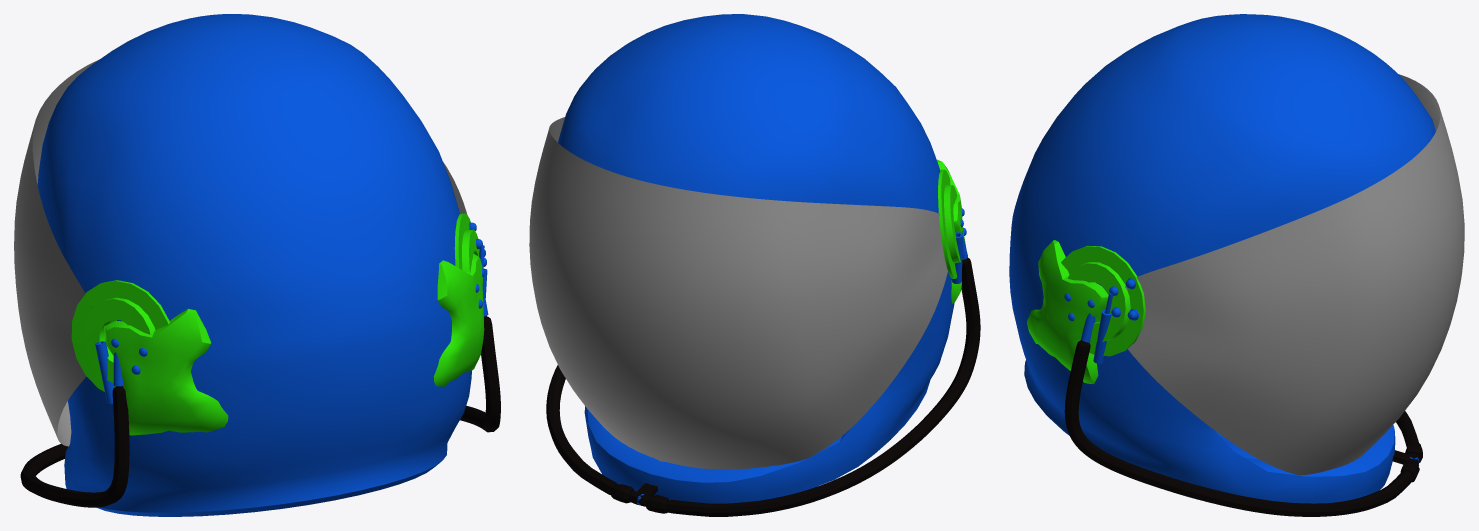
File: Helmet.FBX
The picture shows the model from 3 angles, left to right: view 1: azimuth 30°, elevation 25°; view 2: azimuth 150°, elevation 25°; view 3: azimuth 270°, elevation 25°; orthographic projection. The views are drawn at different scales.
Parts seen in each view (by area): view 1: Helmet, Glass; view 2: Glass, Helmet; view 3: Helmet, Glass.
Boxes of the visible parts, <box> form: Helmet: <box>20,14,500,516</box>; Glass: <box>14,60,467,446</box>; Glass: <box>529,117,947,469</box>; Helmet: <box>546,14,980,516</box>; Helmet: <box>1009,14,1435,516</box>; Glass: <box>1125,74,1464,475</box>.
Bounding box in the file's own units: 0.3444 × 0.3814 × 0.3603.
